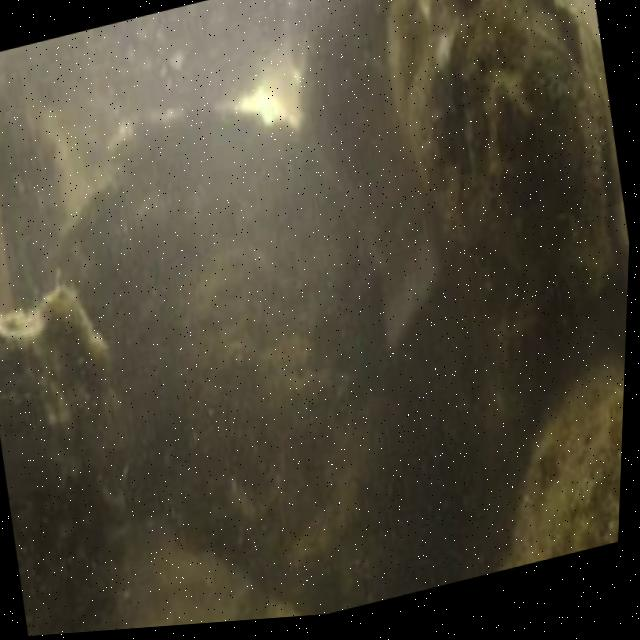Oyster-Indeterminate: (53, 110, 390, 585), (387, 0, 603, 305), (0, 286, 131, 636), (526, 351, 625, 564), (126, 511, 295, 629)
